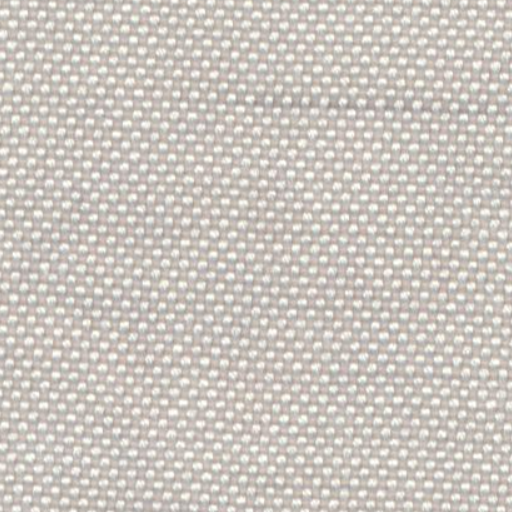WuZi: (236, 82, 478, 122)
